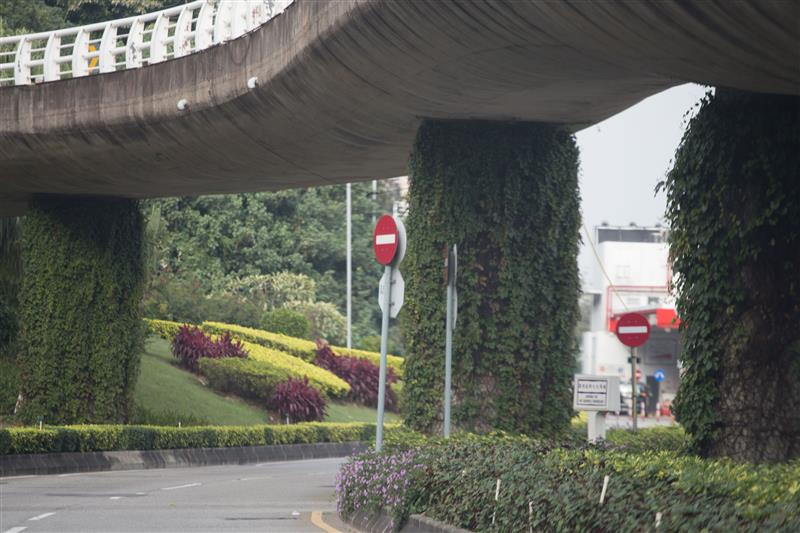noEntry: (371, 215, 399, 265), (616, 312, 651, 348)
